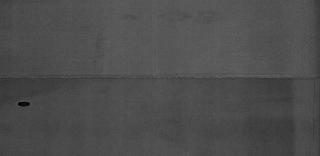punching hole: (14, 98, 34, 109)
welding line: (1, 73, 320, 83)
